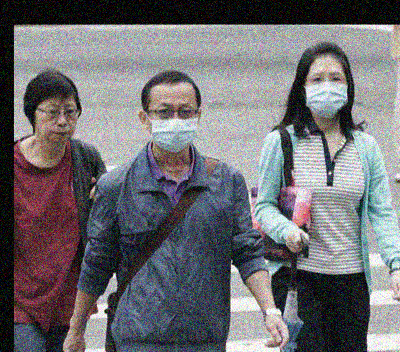with_mask: (147, 101, 201, 152), (303, 67, 348, 117)
without_mask: (34, 102, 78, 143)
